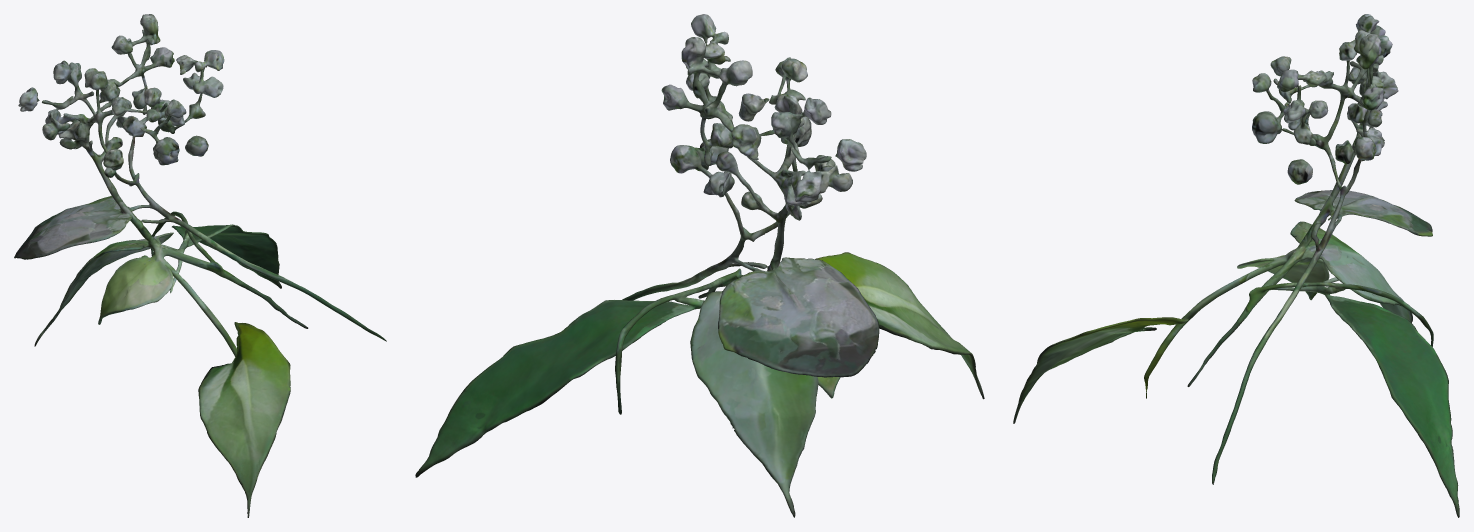
Rendered from climber0033.gltf.
3 renders of one model, left to right at view 1: azimuth 30°, elevation 25°; view 2: azimuth 150°, elevation 25°; view 3: azimuth 270°, elevation 25°, orthographic. The views are drawn at different scales.
Parts seen in each view (by area): view 1: Mesh_0.003; view 2: Mesh_0.003; view 3: Mesh_0.003.
Part boxes in pixels (<box>): Mesh_0.003: <box>14,14,386,517</box>; Mesh_0.003: <box>415,14,984,517</box>; Mesh_0.003: <box>1013,14,1459,517</box>.
Bounding box in the file's own units: 1.7 × 2 × 1.93.
Materials: 1 (1 with a texture image).
